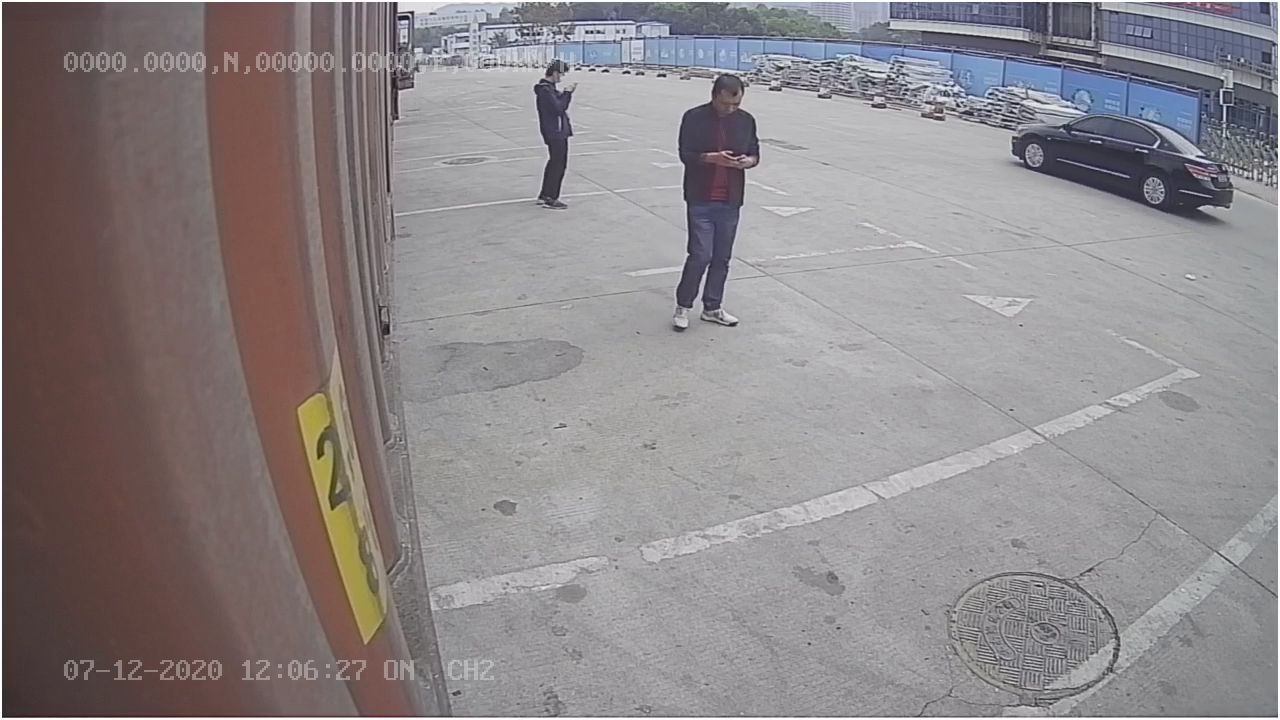person: (669, 74, 761, 330)
